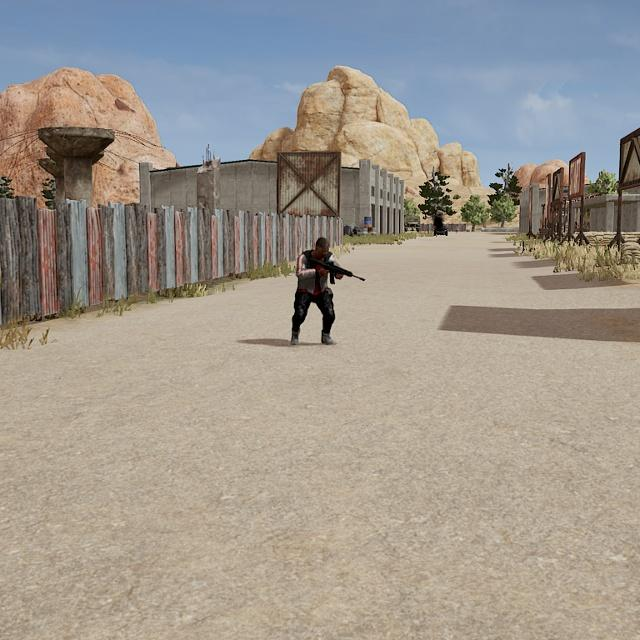head: (313, 236, 333, 259)
people: (287, 237, 341, 347)
